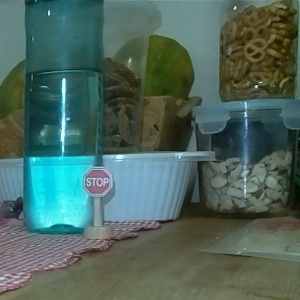stop sign: (80, 164, 114, 241)
